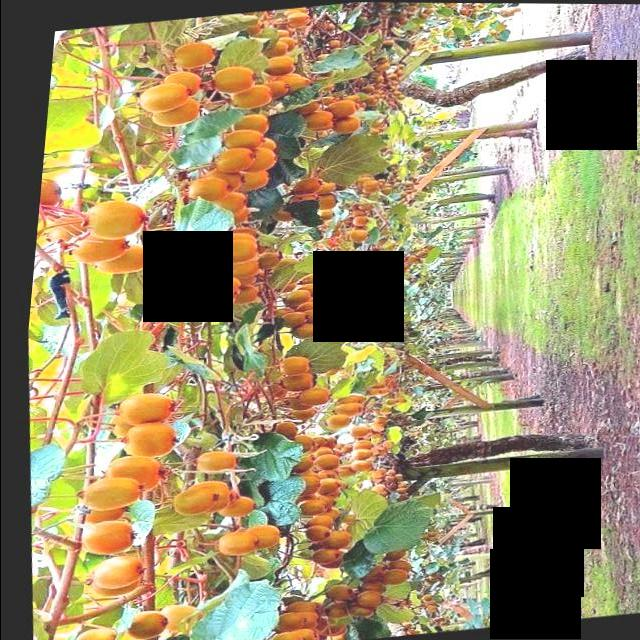kiwi: (70, 202, 136, 245), (98, 455, 161, 498), (76, 477, 140, 515), (109, 393, 172, 429), (86, 557, 147, 593), (59, 235, 123, 269), (34, 212, 90, 250), (85, 245, 147, 279), (77, 523, 135, 559), (117, 424, 173, 461), (87, 568, 141, 601), (125, 84, 178, 115), (139, 98, 192, 129), (155, 605, 205, 636), (167, 489, 217, 519), (73, 500, 126, 528), (183, 286, 230, 317), (191, 193, 241, 221), (159, 42, 204, 73), (180, 482, 229, 510), (201, 148, 247, 177), (201, 68, 245, 98), (212, 86, 262, 112), (121, 612, 167, 640), (103, 413, 150, 440), (212, 533, 257, 560), (206, 240, 250, 266), (176, 180, 220, 206), (238, 526, 279, 553), (218, 170, 261, 195), (190, 454, 236, 477), (211, 498, 255, 522), (151, 73, 188, 101), (187, 278, 234, 300), (211, 131, 254, 155), (261, 77, 303, 101), (198, 208, 241, 230), (216, 259, 255, 283), (31, 179, 55, 217), (212, 286, 251, 308), (250, 58, 286, 80), (273, 373, 307, 395), (315, 531, 350, 552), (291, 389, 325, 410), (291, 111, 324, 132), (270, 310, 301, 332), (285, 476, 316, 498), (271, 358, 305, 378), (278, 437, 312, 457), (272, 614, 305, 634), (313, 102, 346, 122), (284, 614, 318, 633), (247, 83, 281, 102), (294, 501, 326, 520), (249, 42, 278, 62), (68, 628, 116, 640), (283, 179, 313, 198), (268, 424, 296, 444), (260, 207, 288, 227), (321, 586, 352, 604), (307, 481, 336, 500), (284, 602, 316, 619), (353, 593, 381, 612), (284, 325, 314, 342), (320, 119, 350, 136), (308, 551, 336, 569), (279, 197, 307, 215), (300, 518, 331, 534), (293, 310, 321, 327), (379, 572, 407, 589), (308, 457, 335, 474), (288, 285, 315, 302), (300, 527, 325, 545), (278, 291, 304, 308), (318, 417, 345, 433), (285, 458, 309, 476), (261, 38, 283, 57), (301, 195, 325, 212), (327, 406, 356, 420), (271, 16, 297, 31), (343, 451, 370, 464), (282, 630, 317, 640), (320, 326, 343, 340), (339, 232, 361, 246), (346, 442, 369, 455), (344, 463, 366, 476), (343, 427, 365, 440), (329, 291, 351, 304), (341, 218, 360, 230), (270, 633, 302, 640), (354, 183, 371, 193), (370, 299, 384, 307), (372, 289, 385, 296)
